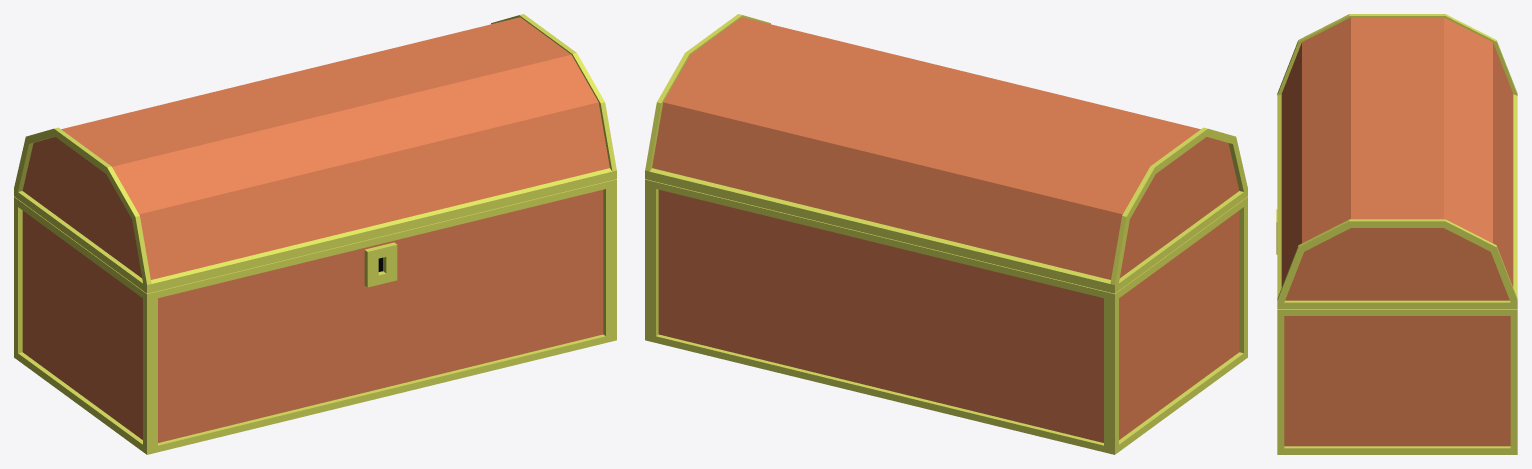
Rendered from enviro chest.fbx.
3 views of the same model, side by side, from view 1: azimuth 30°, elevation 25°; view 2: azimuth 150°, elevation 25°; view 3: azimuth 270°, elevation 25° (orthographic). The views are drawn at different scales.
Visible parts, largest first — view 1: Cube.021, Cube.020; view 2: Cube.021, Cube.020; view 3: Cube.021, Cube.020.
Part boxes in pixels (x1=…): Cube.021: x1=14, y1=14, x2=616, y2=293; Cube.020: x1=14, y1=179, x2=616, y2=454; Cube.021: x1=645, y1=14, x2=1247, y2=293; Cube.020: x1=645, y1=179, x2=1247, y2=454; Cube.021: x1=1277, y1=14, x2=1517, y2=308; Cube.020: x1=1276, y1=209, x2=1517, y2=454.
Bounding box in the file's own units: 408 × 214 × 201.
